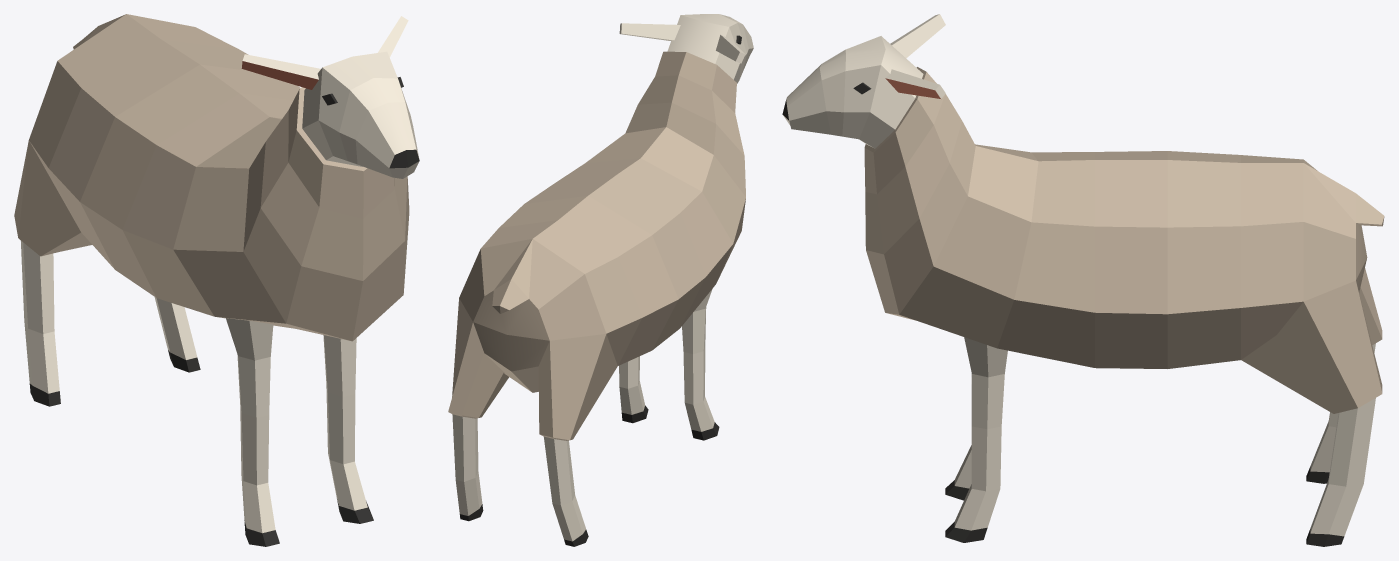
Rendered from 5694bafc-b1c6-4177-9947-08dd859c1f28.glb.
The picture shows the model from 3 angles, left to right: view 1: azimuth 30°, elevation 25°; view 2: azimuth 150°, elevation 25°; view 3: azimuth 270°, elevation 25°; orthographic projection. The views are drawn at different scales.
Parts seen in each view (by area): view 1: Geo_Sheep; view 2: Geo_Sheep; view 3: Geo_Sheep.
Part boxes in pixels (left/top/right/bottom): Geo_Sheep: left=14, top=14, right=419, bottom=546; Geo_Sheep: left=448, top=14, right=753, bottom=546; Geo_Sheep: left=782, top=14, right=1384, bottom=546.
Size of the model in its own units: 79.56 by 160 by 187.
1 material, 1 textured.
